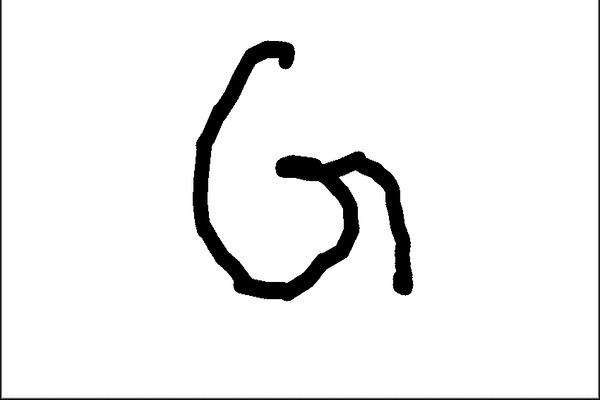G: (188, 38, 421, 304)
